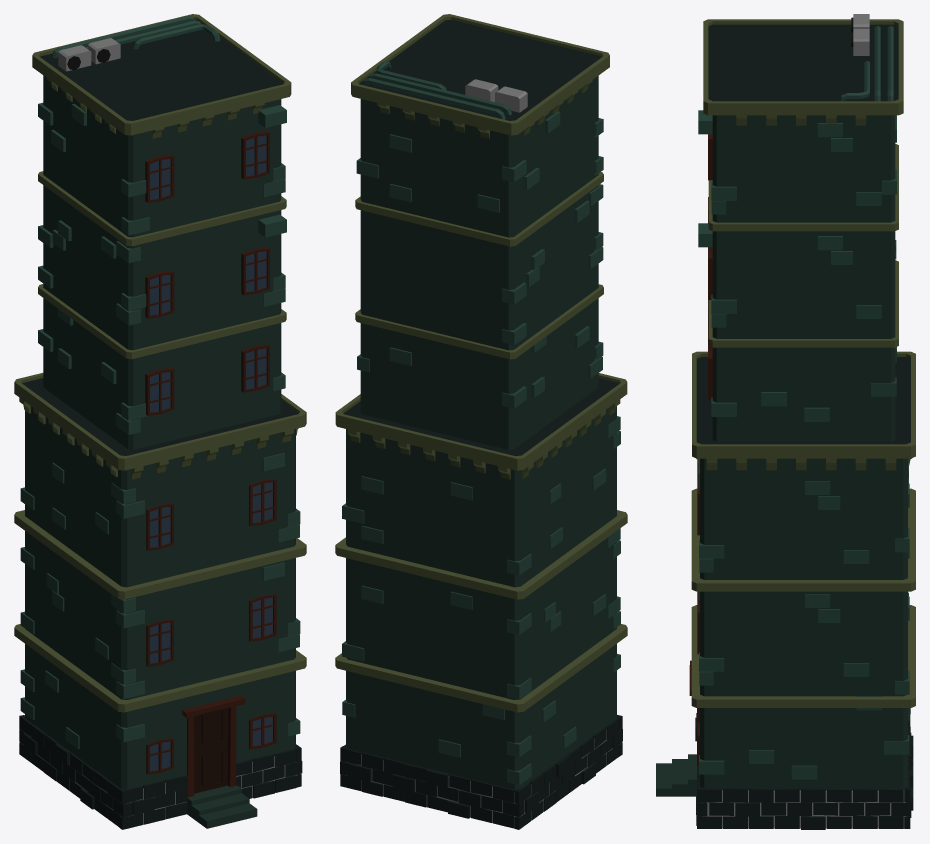
File: 6Story_Stack.obj
3 views of the same model, side by side, from view 1: azimuth 30°, elevation 25°; view 2: azimuth 150°, elevation 25°; view 3: azimuth 270°, elevation 25° (orthographic). The views are drawn at different scales.
Visible parts, largest first — view 1: 6Story_Stack_Mat_Cube.012; view 2: 6Story_Stack_Mat_Cube.012; view 3: 6Story_Stack_Mat_Cube.012.
Boxes of the visible parts, x1,y1,x2,y2 form: 6Story_Stack_Mat_Cube.012: (14, 14, 306, 829); 6Story_Stack_Mat_Cube.012: (335, 14, 627, 829); 6Story_Stack_Mat_Cube.012: (656, 14, 915, 829).
Size of the model in its own units: 2.16 by 7.8 by 2.5.
